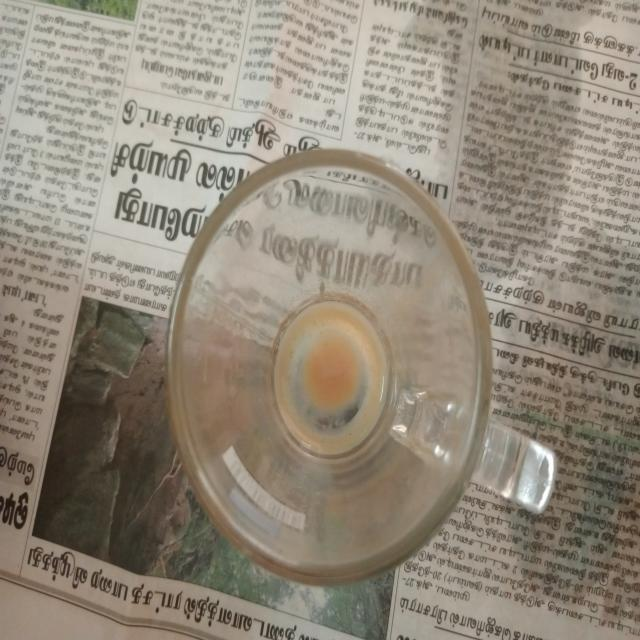glass-VX4N: (164, 147, 557, 558)
